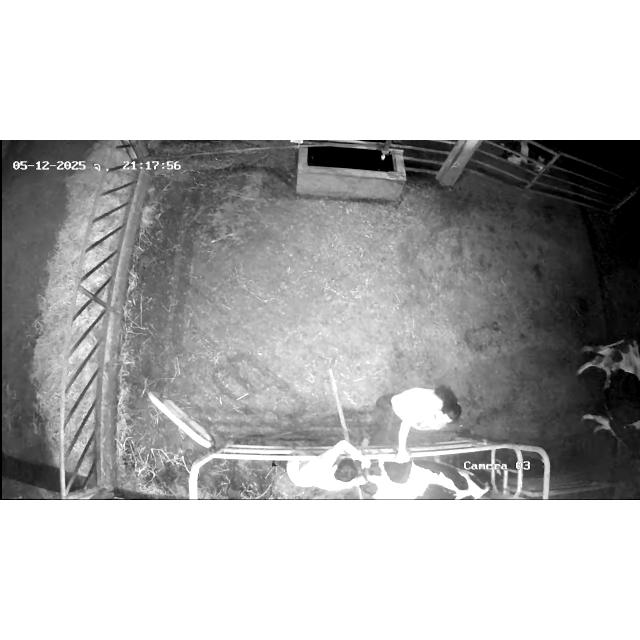stand: (566, 318, 640, 464)
